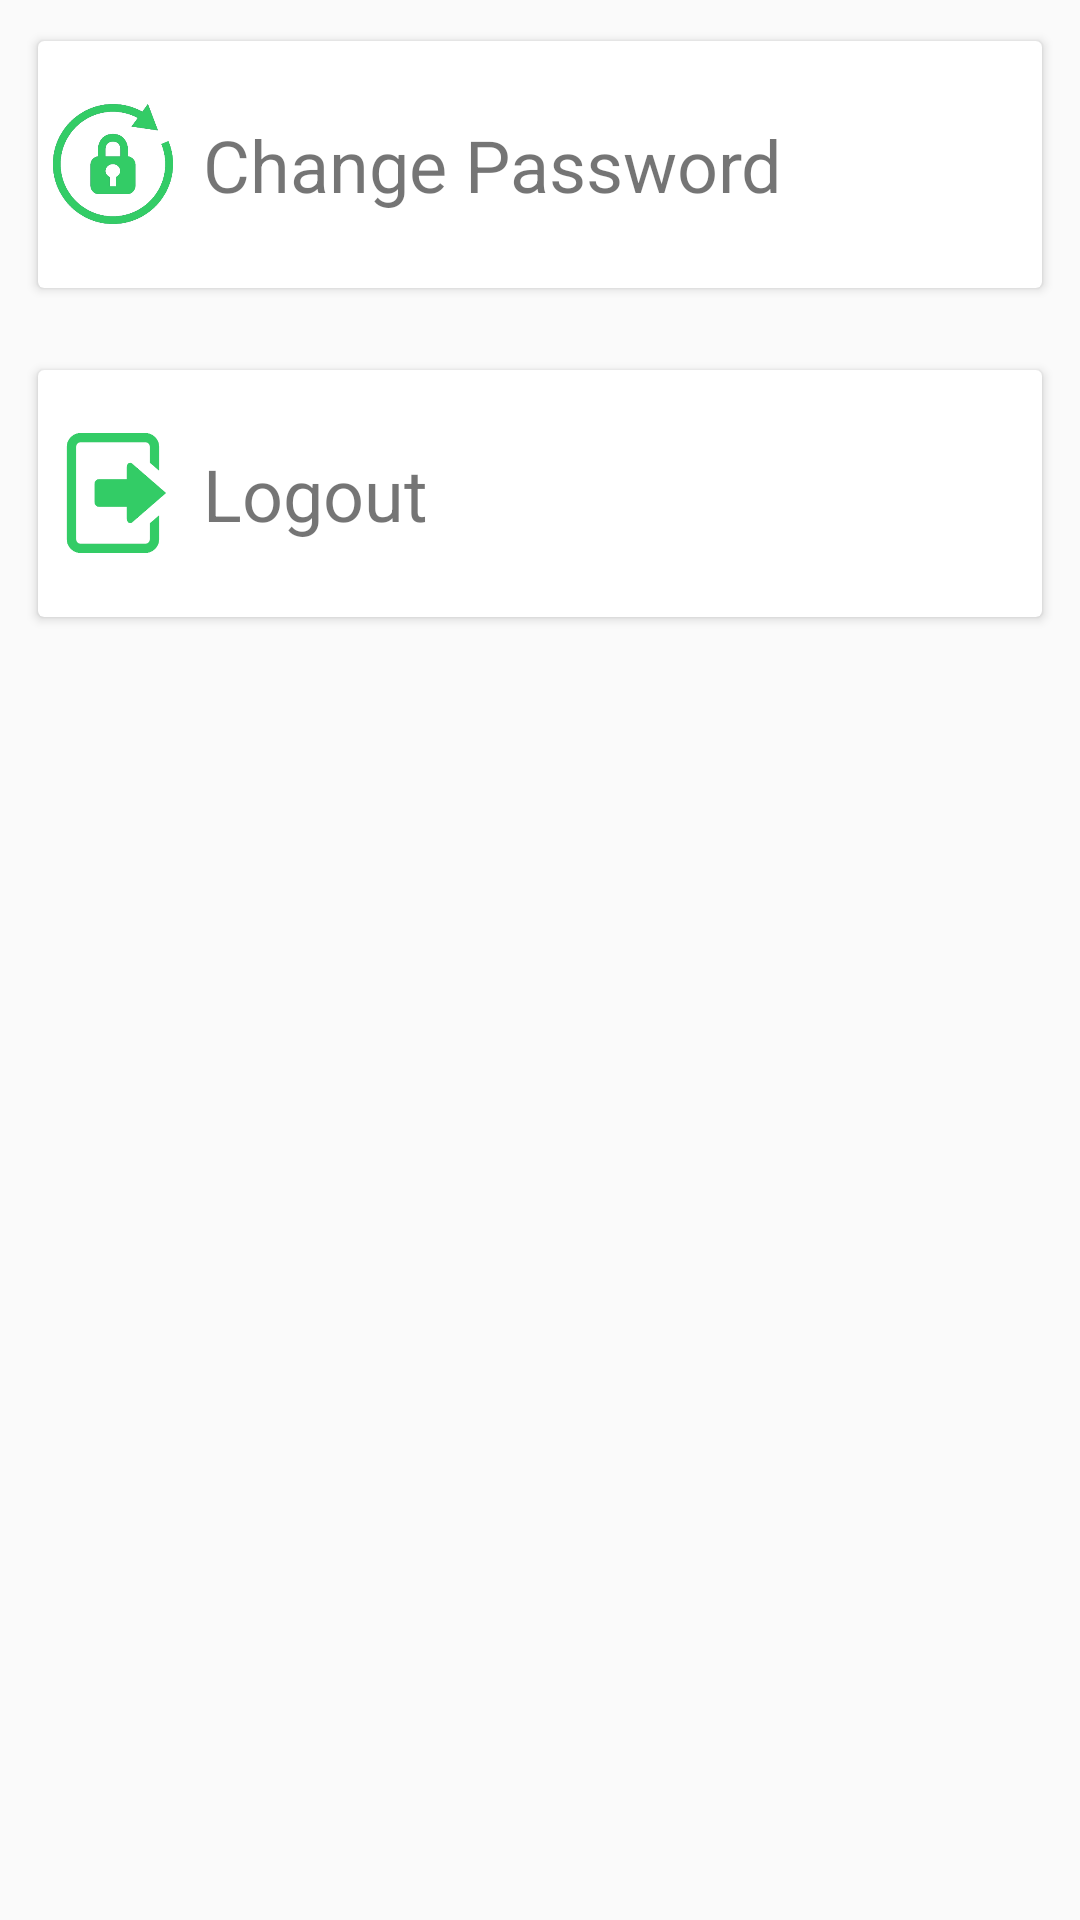

Named icons in this screenshot (1080w x 1920h) and their bounding boxes, (x1, y1, x2, y2):
change pwd: (53, 104, 173, 224)
